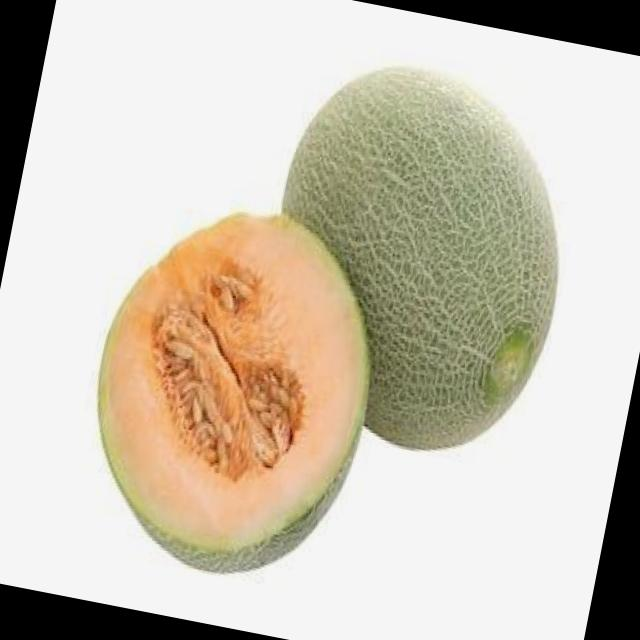cantaloupe: (240, 49, 590, 470), (66, 186, 400, 598)
